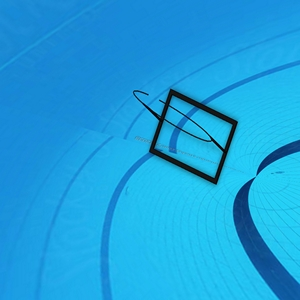circle: (129, 86, 241, 188)
